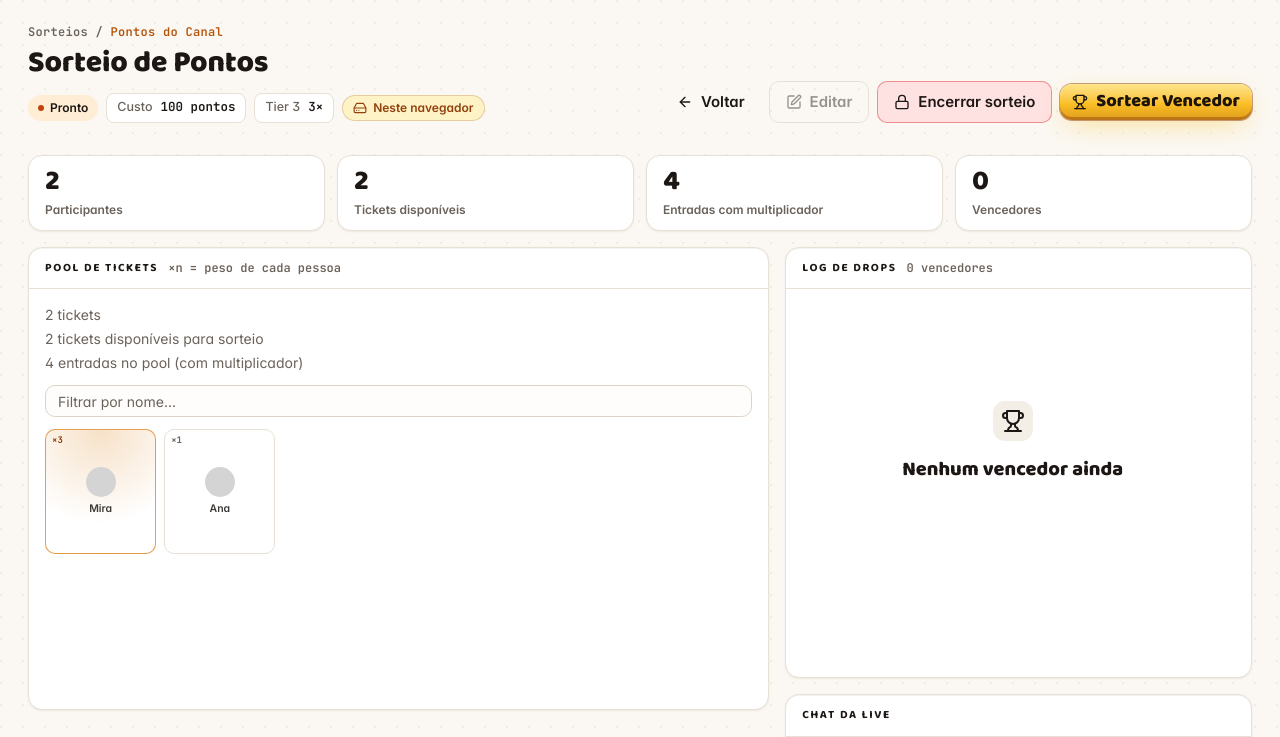
Scenario: página do sorteio de Pontos › CA-B1: excluído depois da coleta sai da lista, da contagem e da chance
Check: the text "2 tickets" is shown, box x1=45 y1=306 x2=101 y2=323
Check: the text "Mira" is shown, box x1=89 y1=502 x2=112 y2=515
Click the button "Sortear Vencedor".
click(1156, 102)  # box x1=1060 y1=84 x2=1252 y2=120
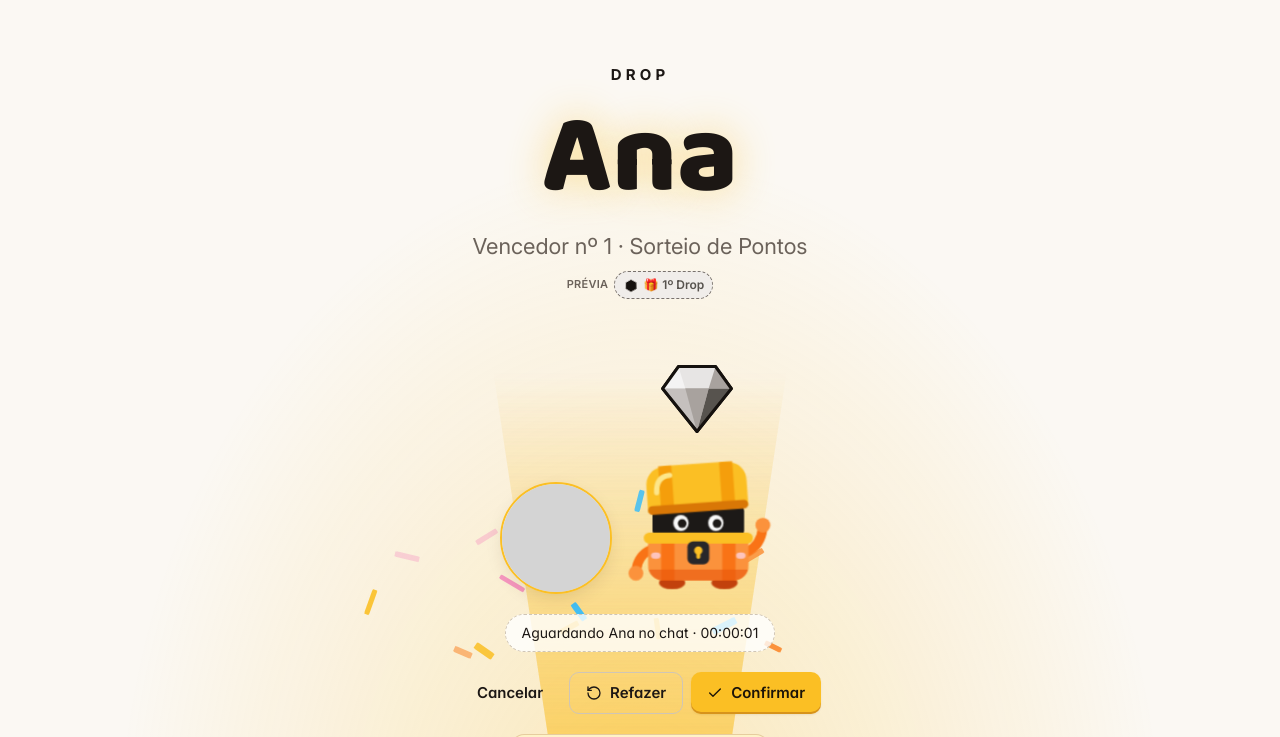
Check: the text "Mira" is gone
Check: the text "4 entradas no pool (com multiplicador)" is gone
